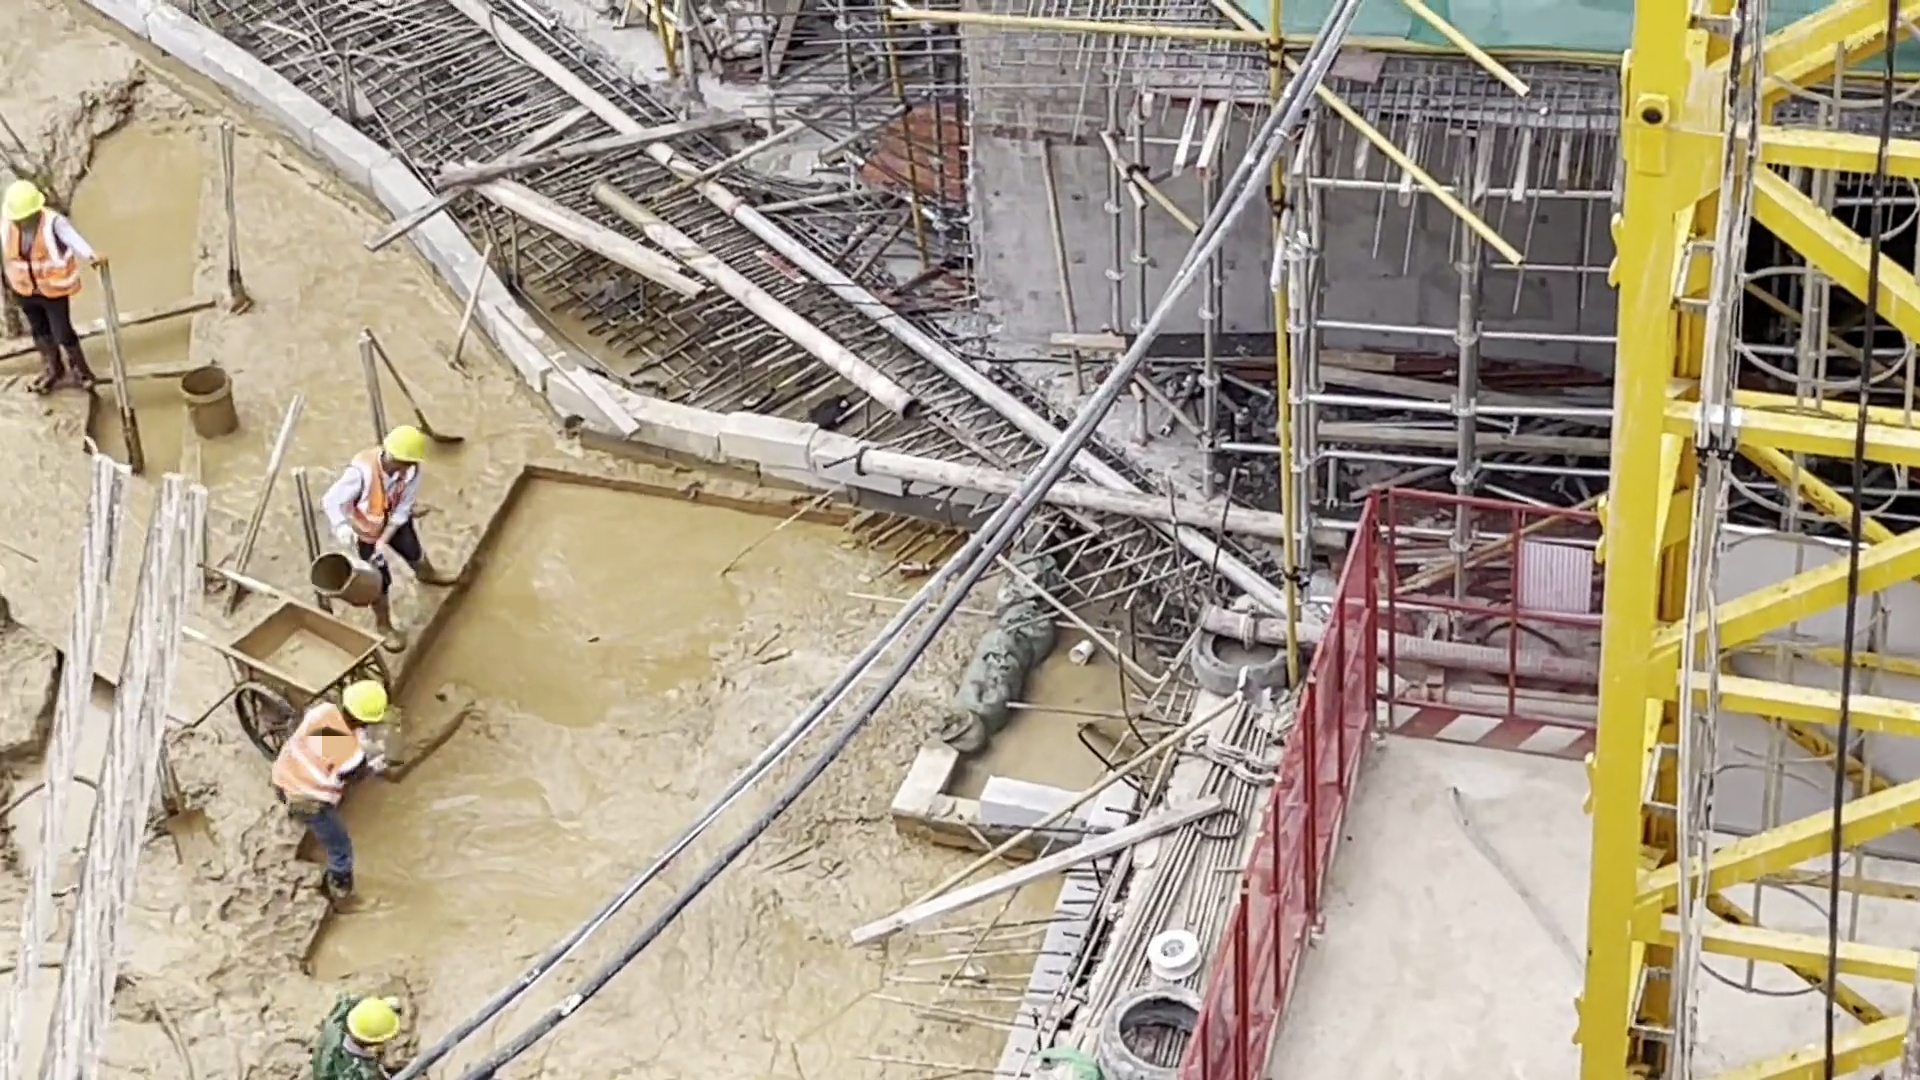fence: (1172, 478, 1381, 1080), (1363, 487, 1610, 767)
helmet: (345, 997, 399, 1045), (345, 678, 385, 723), (384, 423, 425, 465), (1, 180, 44, 216)
person: (334, 427, 464, 637), (271, 678, 389, 909), (1, 175, 115, 398), (308, 989, 413, 1080)
vest: (278, 704, 359, 806), (1, 217, 80, 295), (348, 452, 412, 534)
